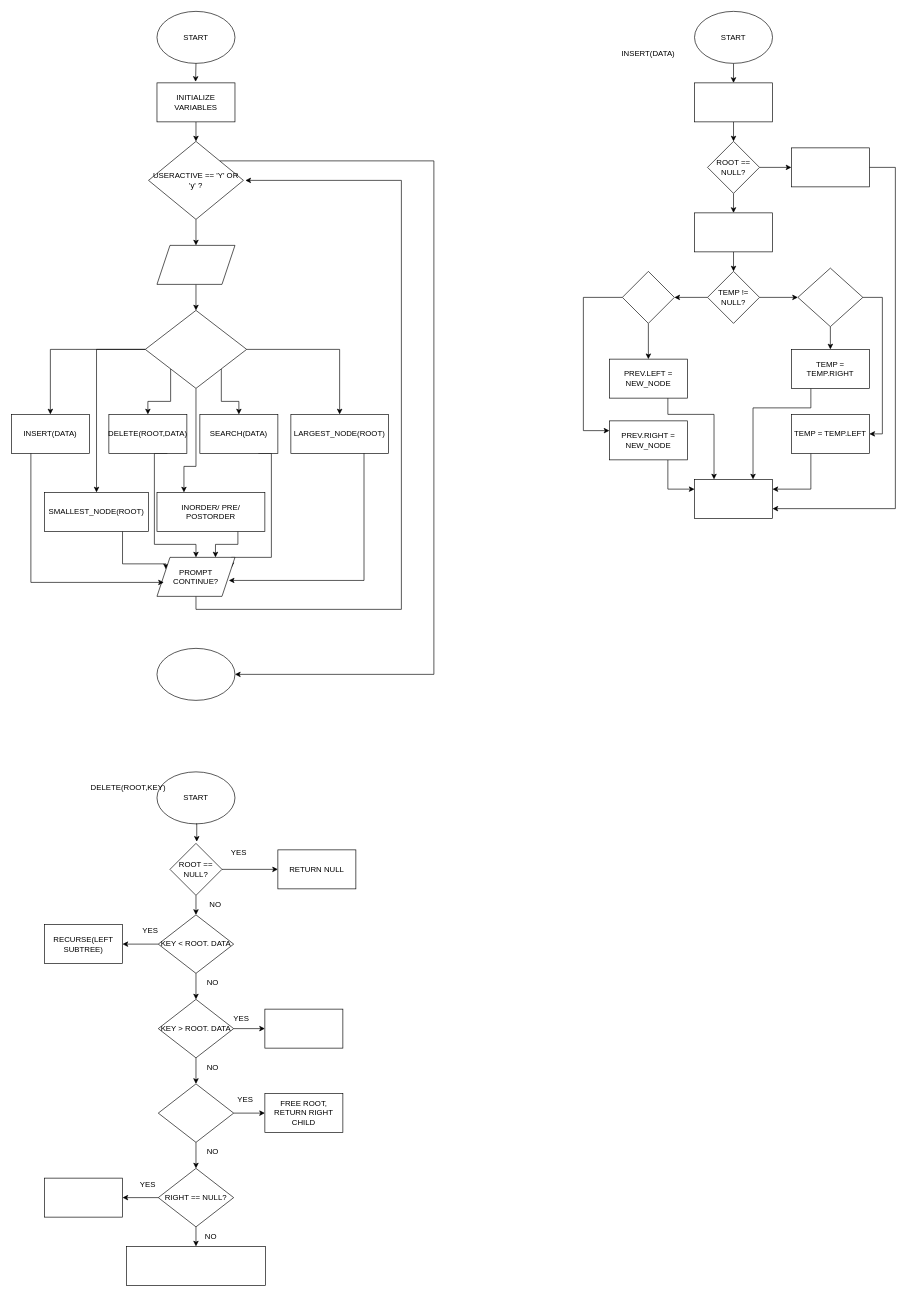
Some shapes in this 912 by 1297 pixel diagram are drawn without their labels. The box of each missing label's shape, as (x1, y1, x2, y2) in pixels:
CREATE NEW NODE, SET DATA: (694, 82, 773, 122)
DATA > PREV?: (622, 271, 674, 323)
DATA > TEMP ?: (797, 267, 863, 327)
END: (156, 648, 235, 700)
FREE ROOT, RETURN LEFT CHILD: (44, 1177, 123, 1217)
LEFT == NULL?: (158, 1083, 234, 1142)
PRINT MENU AND GET USERCHOICE: (156, 245, 235, 284)
RECURSE(RIGHT SUBTREE): (264, 1008, 343, 1048)
RETURN NODE: (694, 479, 773, 518)
ROOT = NEW_NODE: (791, 147, 869, 187)
SUCCESSOR = SMALLEST_NODE(ROOT.RIGHT): (126, 1246, 266, 1285)
SWITCH(USERCHOICE): (145, 310, 247, 388)
TEMP = ROOT, PREV = NULL: (694, 212, 773, 252)
